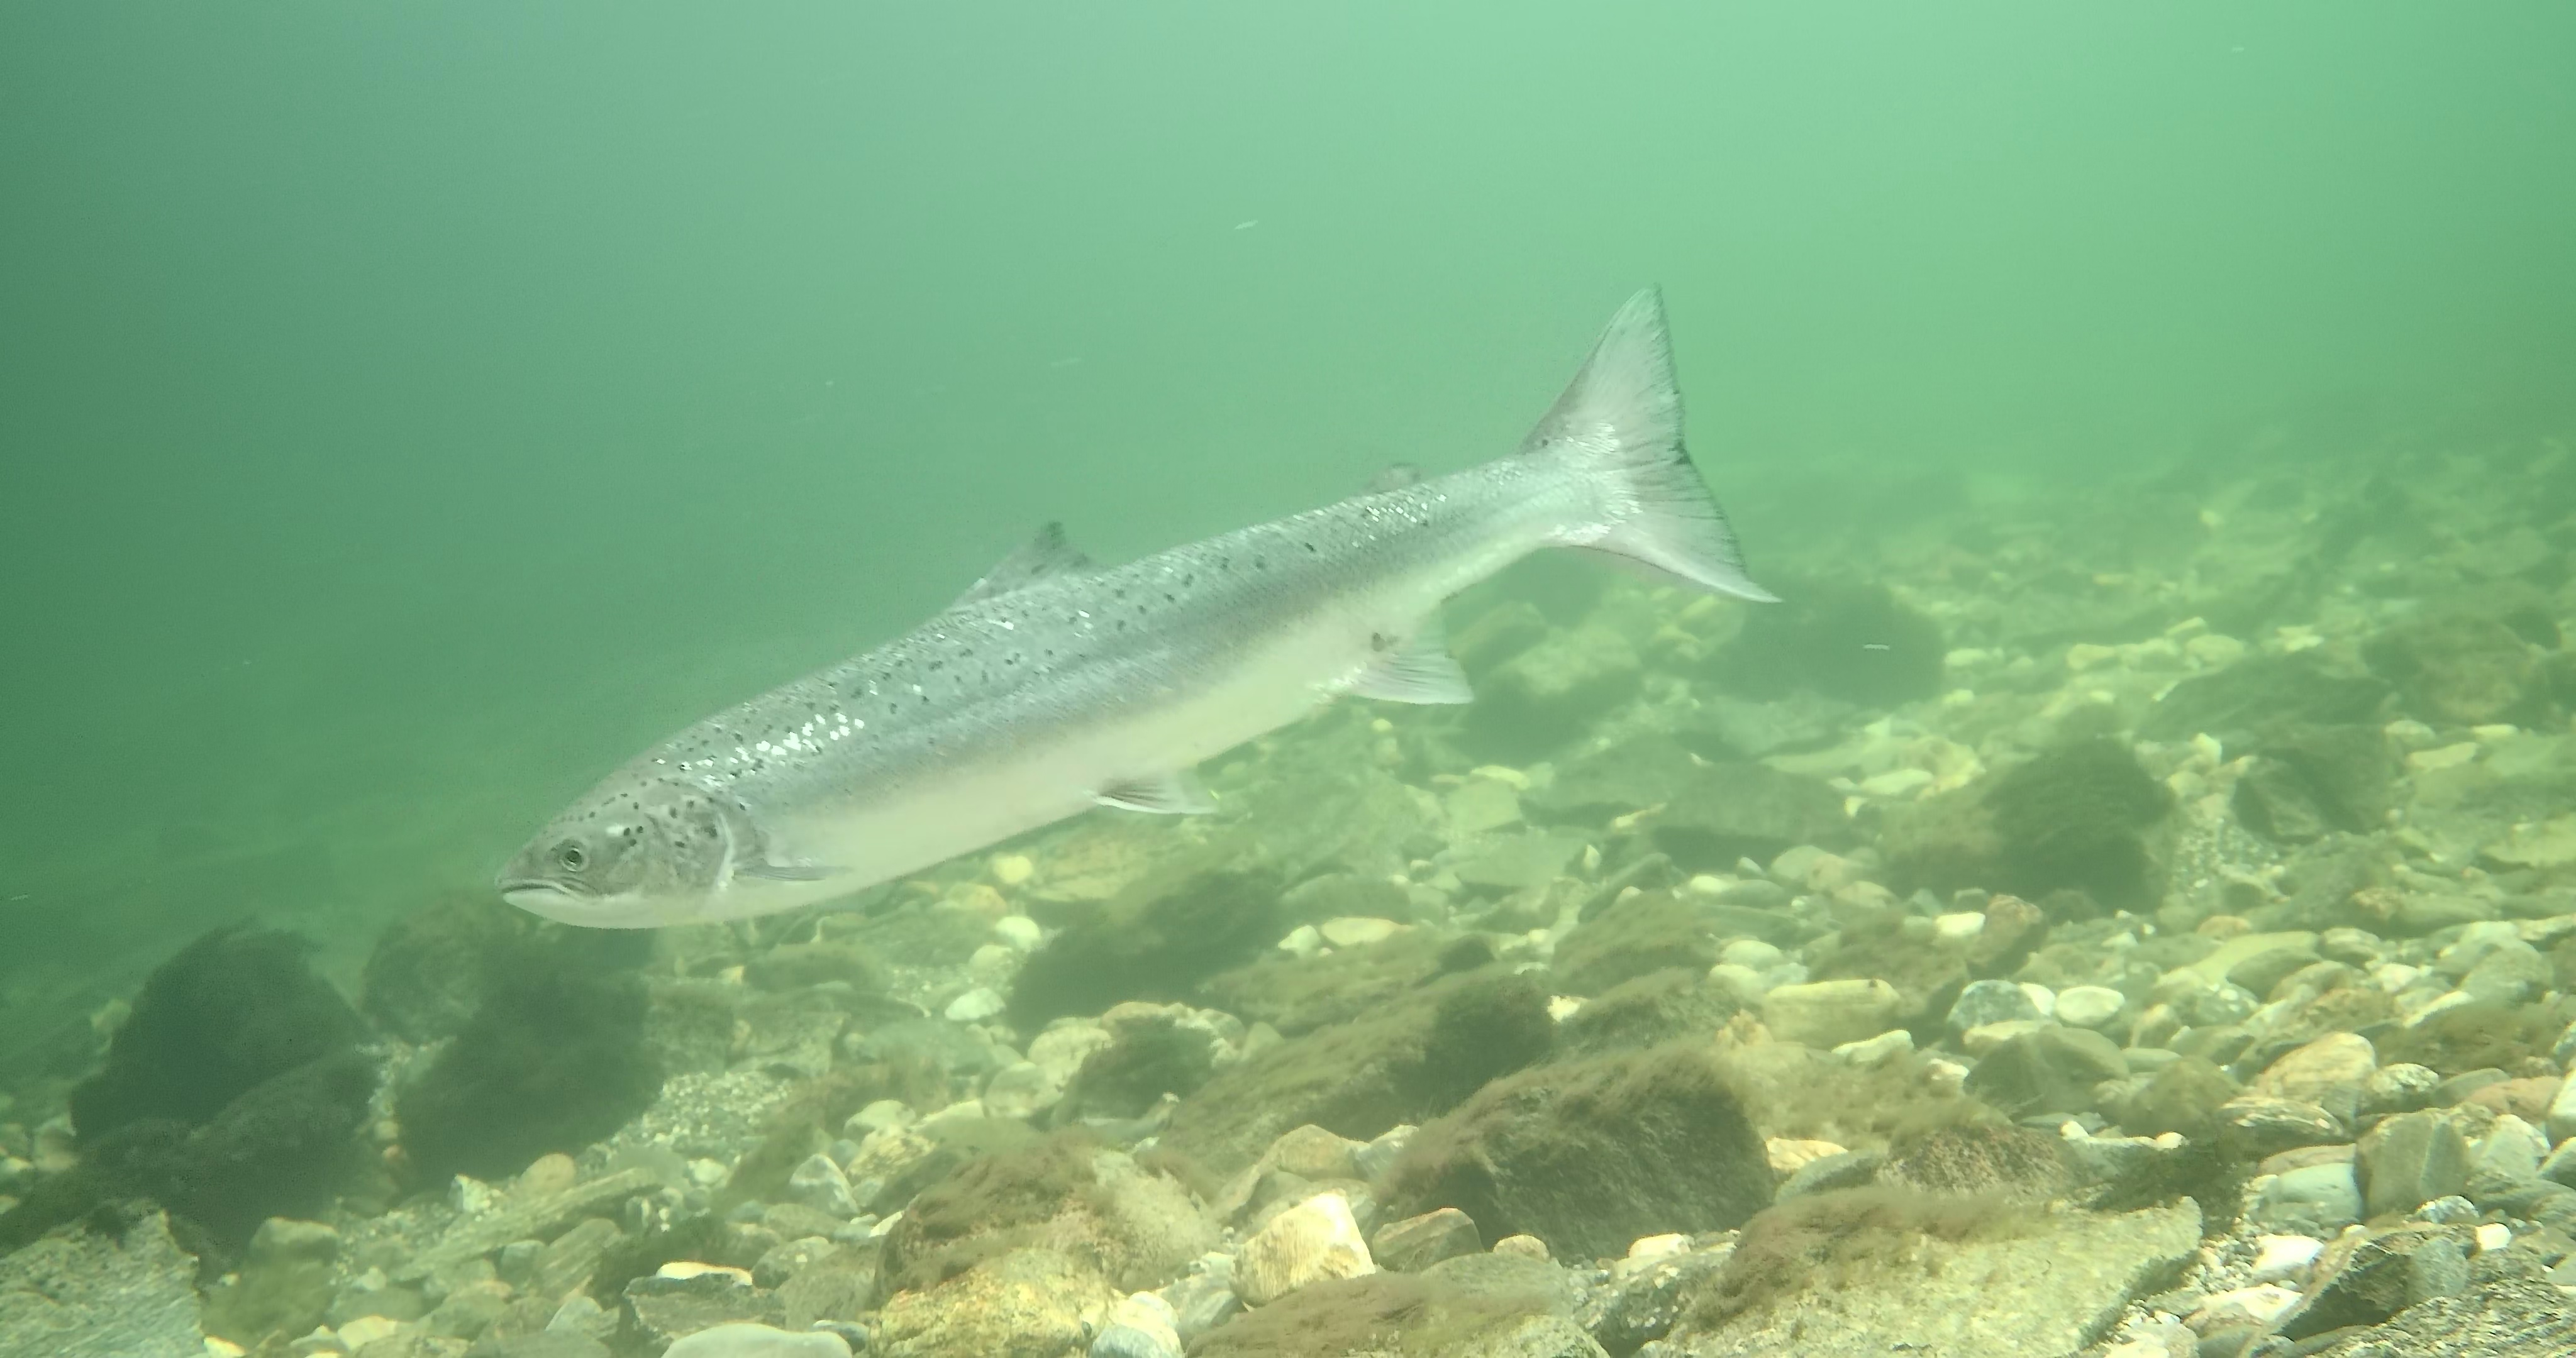salmon: (489, 274, 1779, 937)
